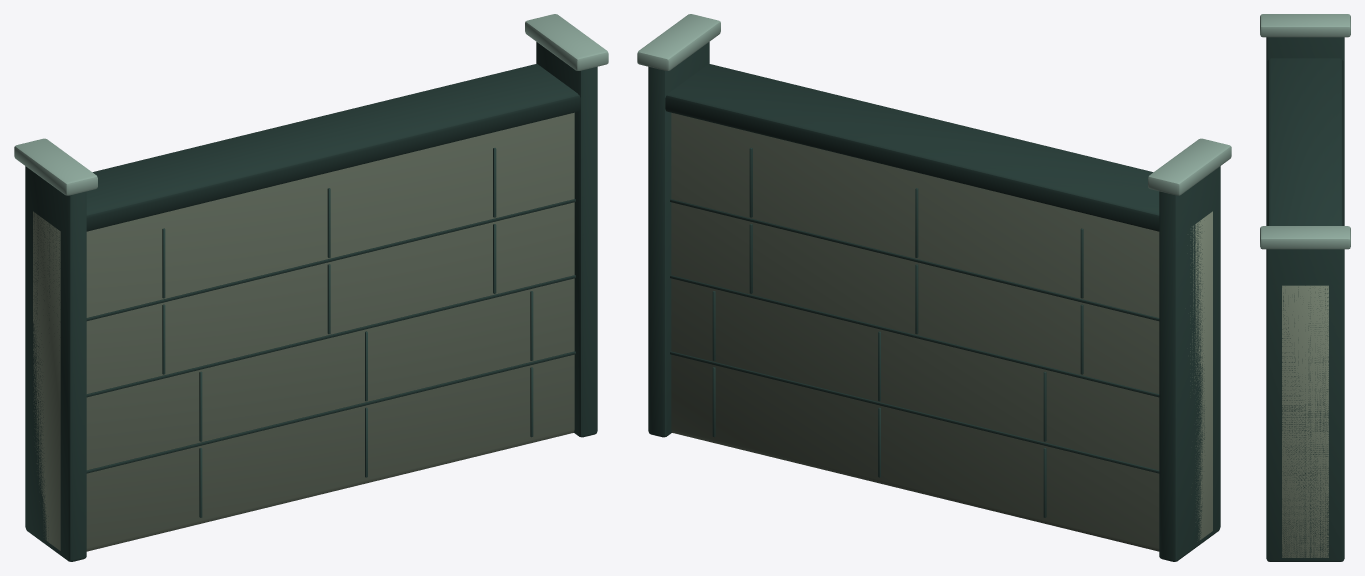
The model's file is kf-wall.glb.
3 renders of one model, left to right at view 1: azimuth 30°, elevation 25°; view 2: azimuth 150°, elevation 25°; view 3: azimuth 270°, elevation 25°, orthographic. The views are drawn at different scales.
Parts seen in each view (by area): view 1: Fixture Concrete, Fixture Painted frame, Fixture Steel fittings; view 2: Fixture Concrete, Fixture Painted frame, Fixture Steel fittings; view 3: Fixture Painted frame, Fixture Concrete, Fixture Steel fittings.
Boxes of the visible parts, left/top/right/bottom form: Fixture Concrete: left=33, top=112, right=574, bottom=551; Fixture Painted frame: left=25, top=42, right=597, bottom=561; Fixture Steel fittings: left=14, top=14, right=608, bottom=195; Fixture Concrete: left=671, top=112, right=1212, bottom=551; Fixture Painted frame: left=648, top=42, right=1220, bottom=561; Fixture Steel fittings: left=637, top=14, right=1231, bottom=195; Fixture Painted frame: left=1266, top=37, right=1344, bottom=561; Fixture Concrete: left=1282, top=285, right=1328, bottom=557; Fixture Steel fittings: left=1260, top=14, right=1350, bottom=249.
Bounding box in the file's own units: 4.11 × 2.78 × 0.6999.
